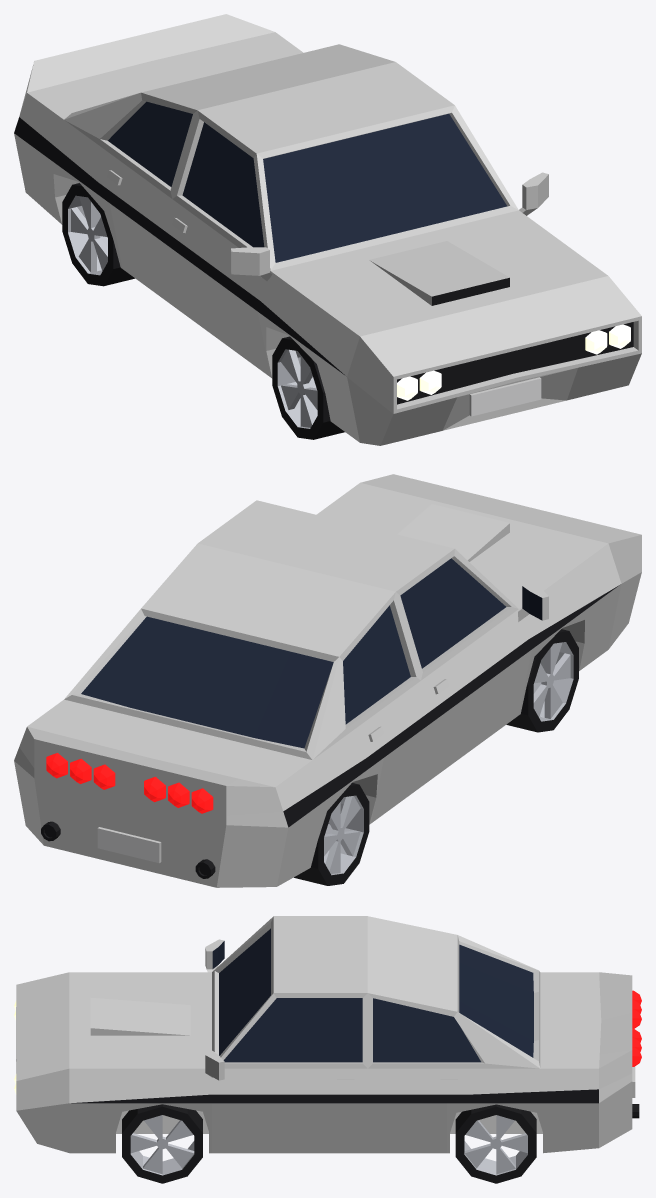
The model's file is muscle.glb.
3 renders of one model, top to bottom at view 1: azimuth 30°, elevation 25°; view 2: azimuth 150°, elevation 25°; view 3: azimuth 270°, elevation 25°, orthographic. The views are drawn at different scales.
Visible parts, largest first — view 1: body, wheel-front-right, wheel-back-right; view 2: body, wheel-front-right, wheel-back-right; view 3: body, wheel-front-left, wheel-back-left.
Boxes of the visible parts, x1=… form: body: x1=14, y1=14, x2=641, y2=445; wheel-front-right: x1=272, y1=336, x2=344, y2=439; wheel-back-right: x1=62, y1=183, x2=134, y2=286; body: x1=14, y1=474, x2=641, y2=887; wheel-front-right: x1=506, y1=629, x2=578, y2=732; wheel-back-right: x1=294, y1=783, x2=369, y2=885; body: x1=14, y1=916, x2=641, y2=1153; wheel-front-left: x1=122, y1=1104, x2=202, y2=1183; wheel-back-left: x1=455, y1=1104, x2=536, y2=1183.
Bounding box in the file's own units: 2.03 × 1.38 × 4.36.
